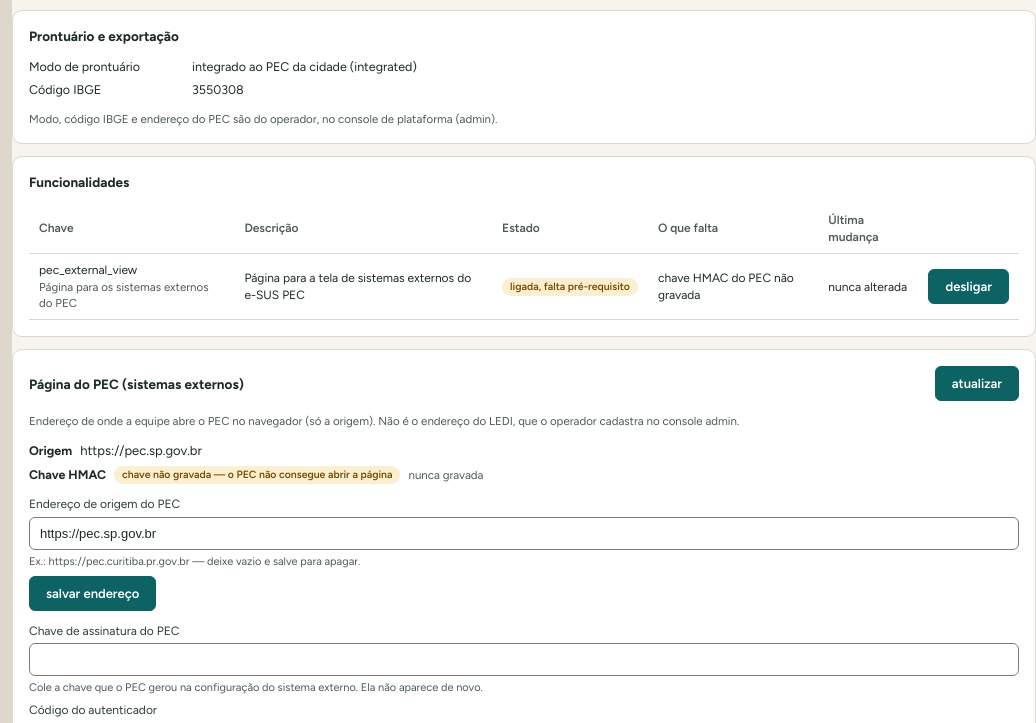
Test: FeaturesTab — linha do tempo e página do PEC (módulo 20) › gravar a chave relê a lista: o 'falta' de pec_external_view acompanha o quadro
Expected: the text "chave HMAC do PEC não gravada" is shown, [648,254,818,320]
Type "9f2c4e7a1b3d5f60a8c2e4f6b1d3a5c7" into the password field labelled "Chave de assinatura do PEC" at (524, 660), box [29,643,1019,676]
(page scrolled)
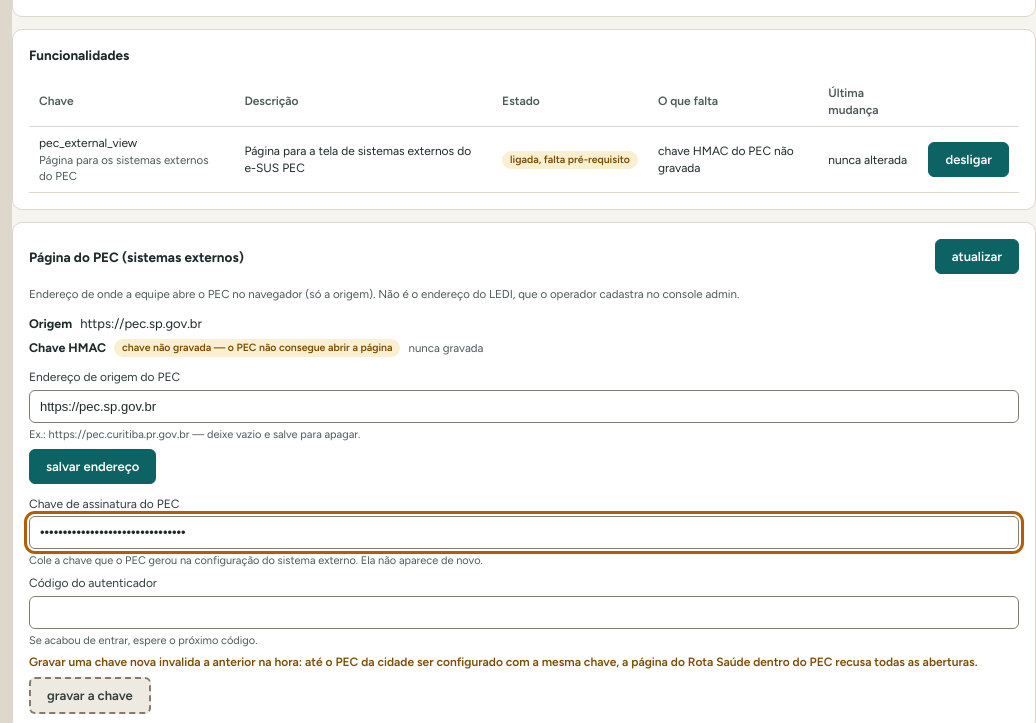
Type "123456" into the field labelled "Código do autenticador" at (524, 612), box [29,596,1019,629]
(page scrolled)
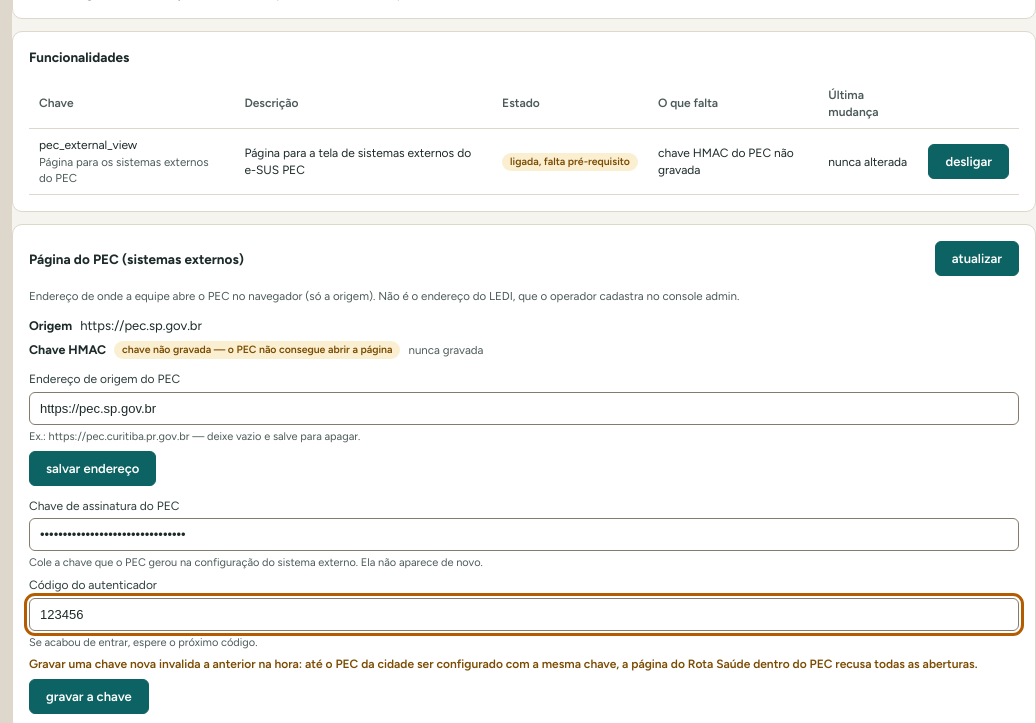
Click the button "gravar a chave" at (89, 696), box [29,679,149,714]
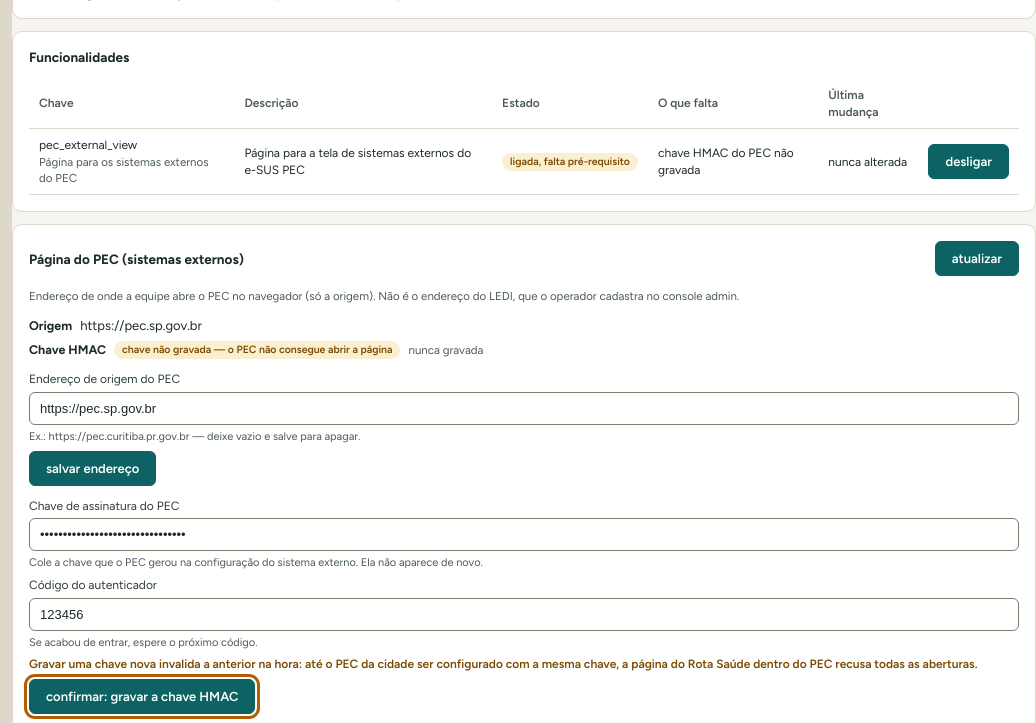
Click the button "confirmar: gravar a chave HMAC" at (142, 696), box [29,679,255,714]
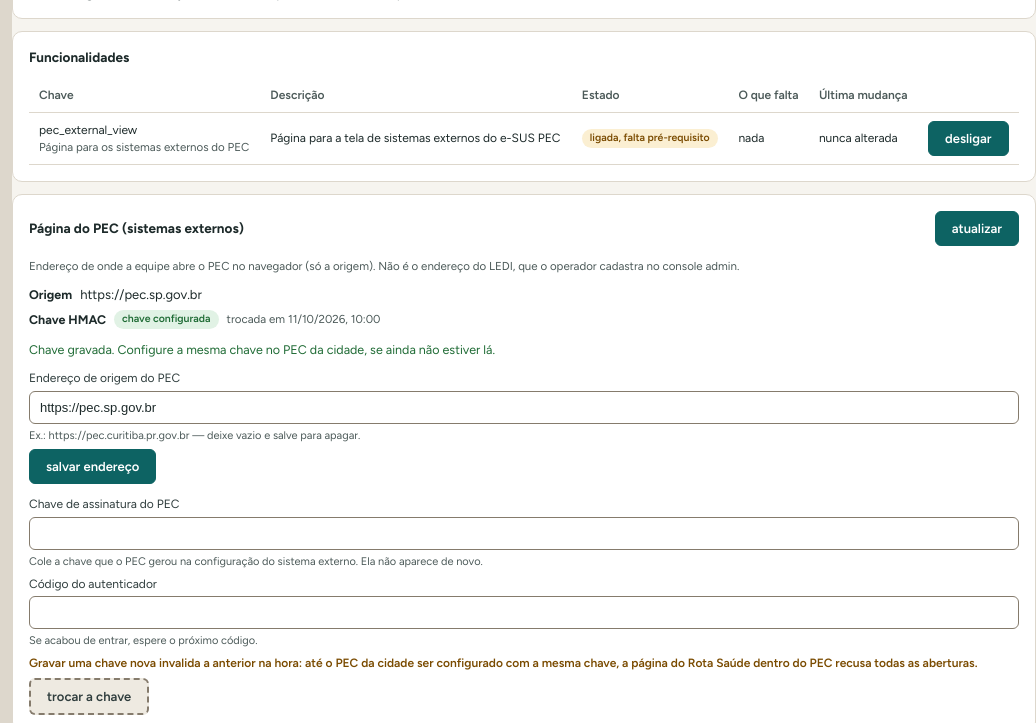
Result: the text "chave HMAC do PEC não gravada" is gone
